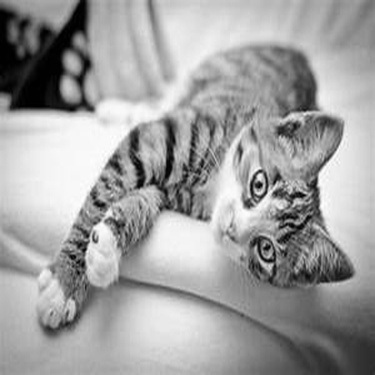cat: (33, 43, 354, 333)
